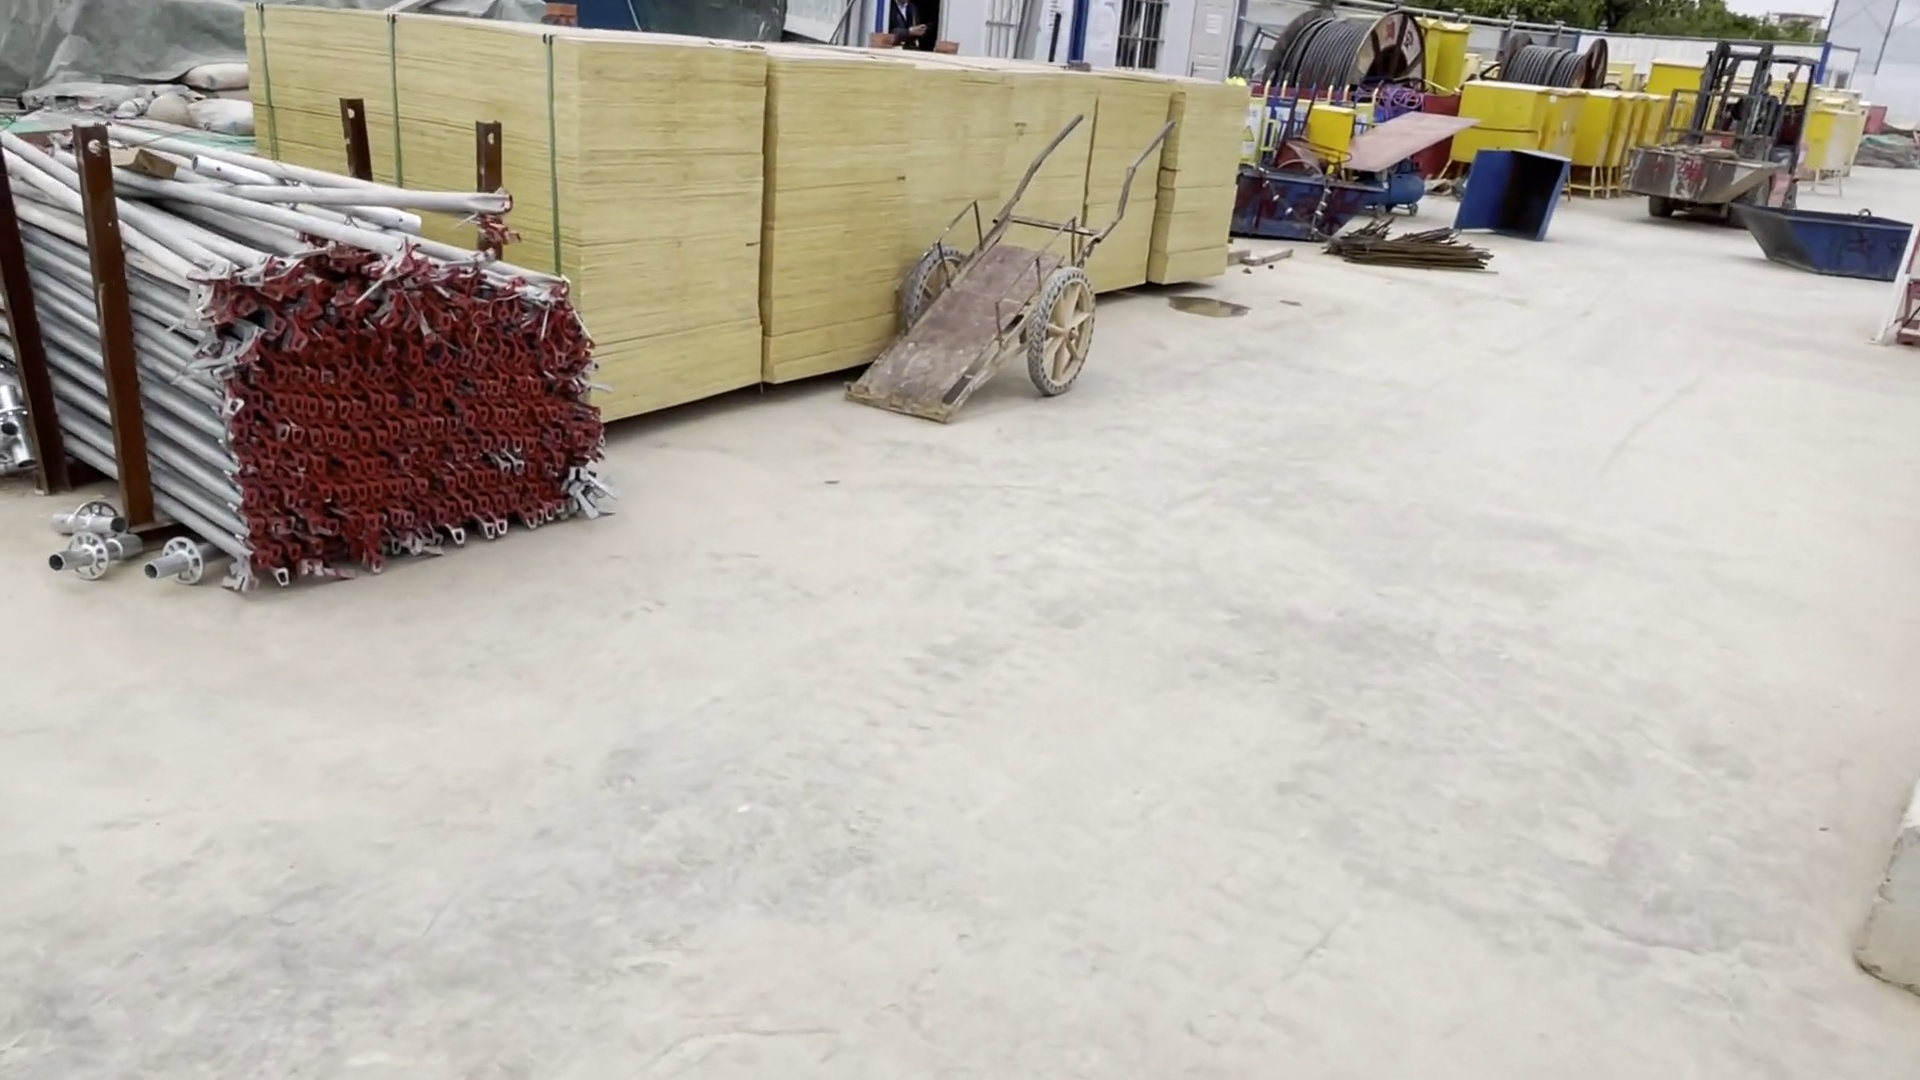ebox: (1451, 73, 1535, 164), (1573, 90, 1621, 169), (1302, 103, 1360, 160), (1432, 22, 1476, 98), (1544, 91, 1584, 161)
handcart: (833, 116, 1183, 426)
scaffold: (1, 98, 604, 644)
